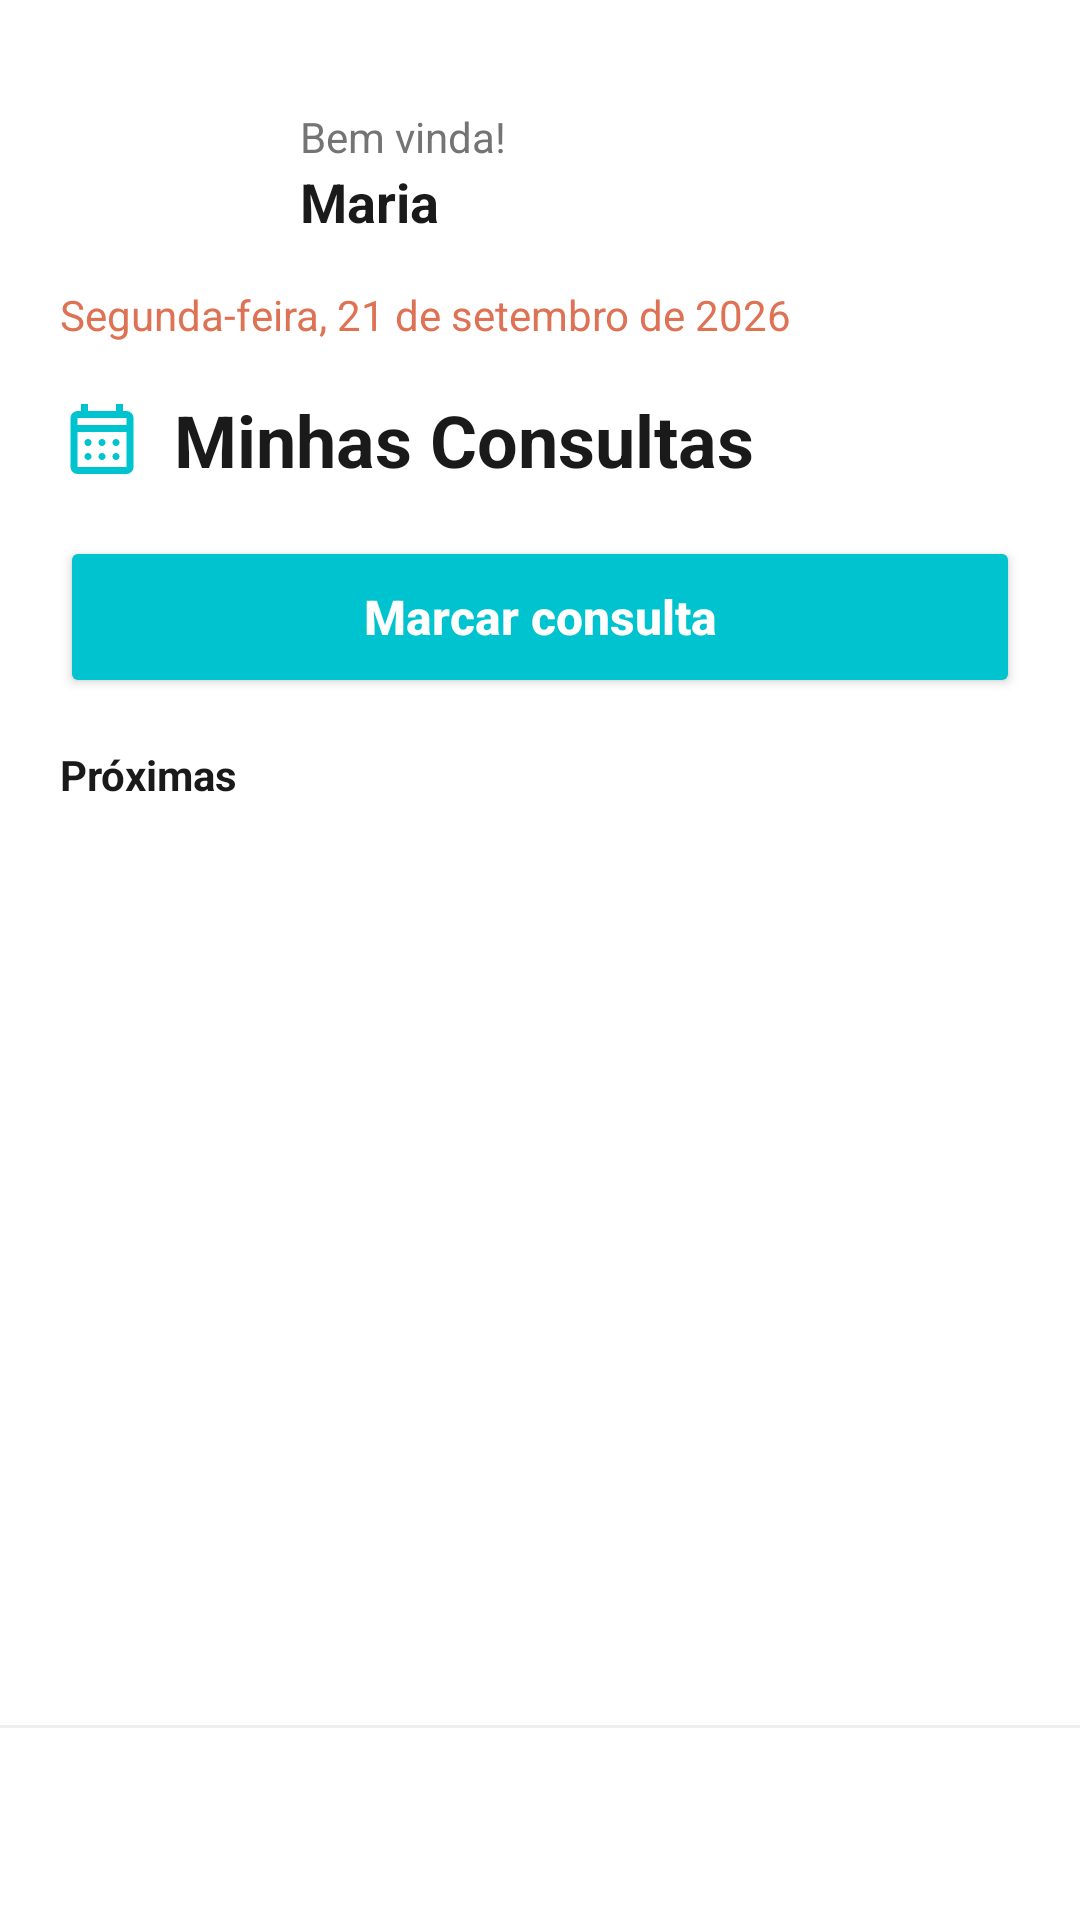

Where icons sit on this 1080*1920 app screen, as [x1, y1, x2, y2]:
calendar: [70, 404, 134, 474]
